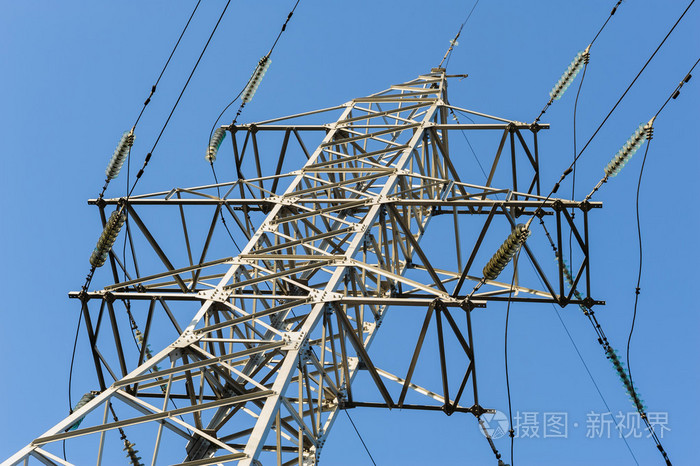insulator: (481, 221, 529, 279), (606, 125, 649, 175), (548, 50, 588, 101), (87, 211, 123, 267), (241, 57, 272, 102), (106, 132, 133, 180), (208, 126, 225, 160)
